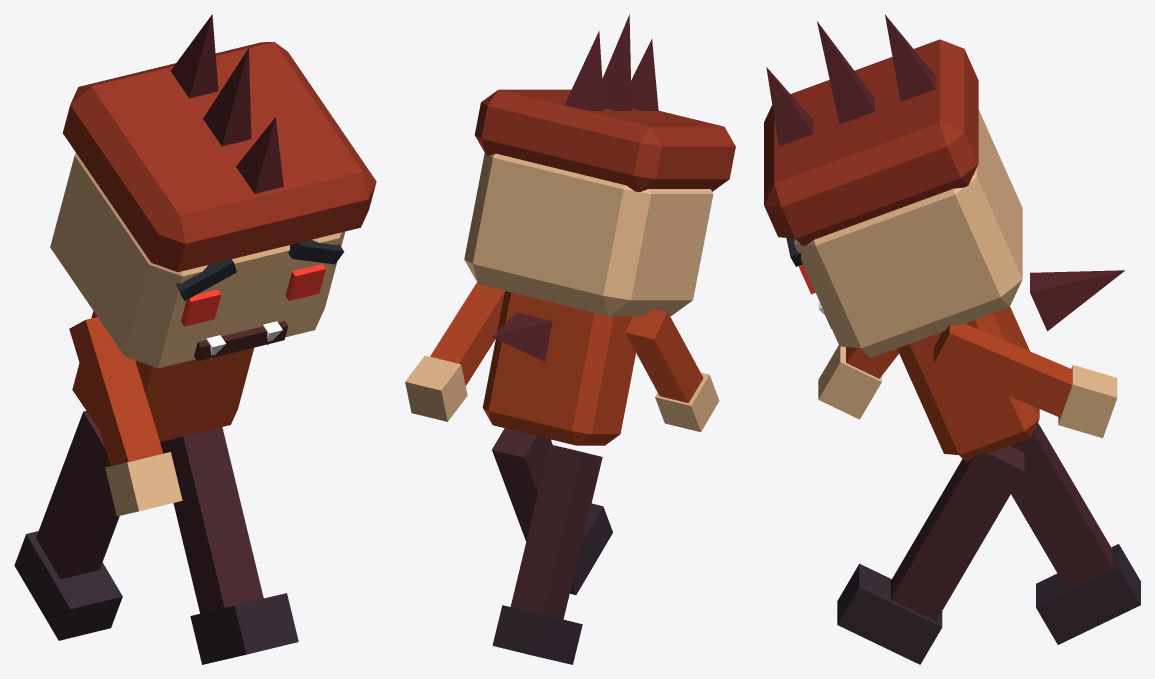
File: scout_r3.glb
3 renders of one model, left to right at view 1: azimuth 30°, elevation 25°; view 2: azimuth 150°, elevation 25°; view 3: azimuth 270°, elevation 25°, orthographic. The views are drawn at different scales.
Visible parts, largest first — view 1: scout_r3_mesh; view 2: scout_r3_mesh; view 3: scout_r3_mesh.
Boxes of the visible parts, x1,y1,x2,y2 form: scout_r3_mesh: (14, 14, 376, 664); scout_r3_mesh: (405, 14, 735, 664); scout_r3_mesh: (764, 14, 1140, 664).
Size of the model in its own units: 0.4023 by 1.2 by 0.6453.
1 material, 1 textured.
